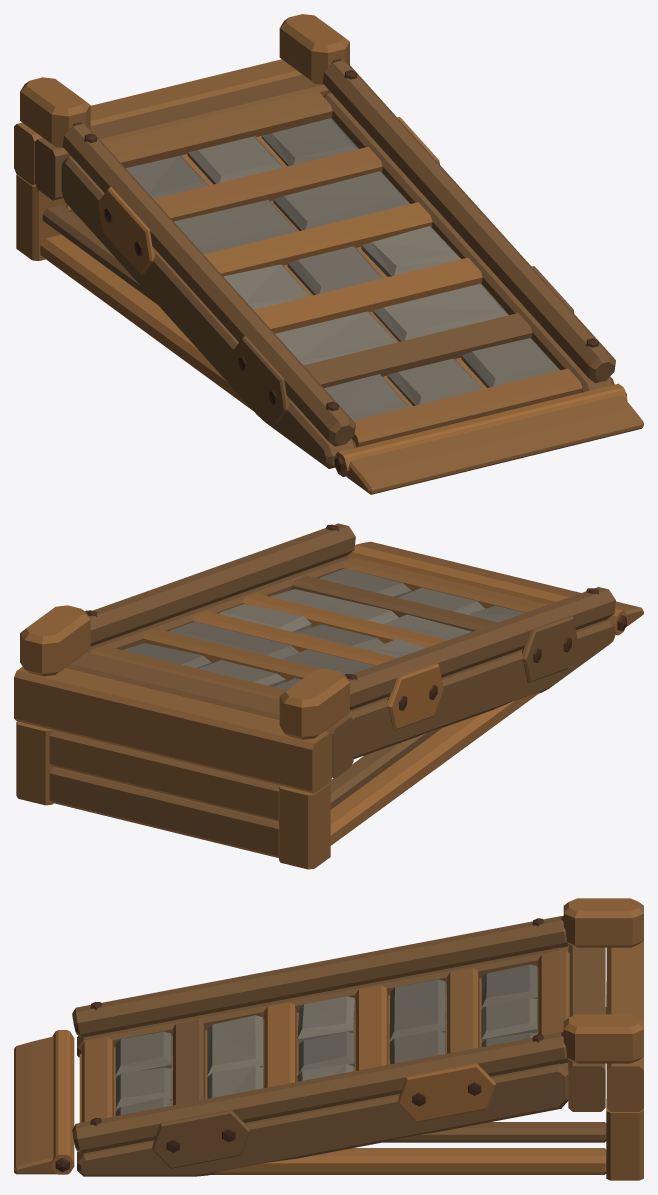
Rendered from foundation-access-wedge-5d2716.glb.
3 views of the same model, one above another, from view 1: azimuth 30°, elevation 25°; view 2: azimuth 150°, elevation 25°; view 3: azimuth 270°, elevation 25° (orthographic). The views are drawn at different scales.
Visible parts, largest first — view 1: wedge-body, trim-left-mesh, trim-right-mesh, foot-plate; view 2: wedge-body, trim-left-mesh, trim-right-mesh, foot-plate; view 3: wedge-body, trim-right-mesh, trim-left-mesh, foot-plate.
Boxes of the visible parts, x1,y1,x2,y2 form: wedge-body: (14, 59, 614, 468); trim-left-mesh: (20, 77, 355, 446); trim-right-mesh: (279, 14, 615, 383); foot-plate: (334, 383, 643, 494); wedge-body: (14, 556, 615, 869); trim-left-mesh: (279, 587, 615, 739); trim-right-mesh: (20, 523, 355, 676); foot-plate: (347, 541, 643, 635); wedge-body: (77, 941, 643, 1180); trim-right-mesh: (72, 1014, 643, 1168); trim-left-mesh: (72, 898, 643, 1037); foot-plate: (14, 1030, 74, 1174).
Size of the model in its own units: 1 by 0.53 by 2.
